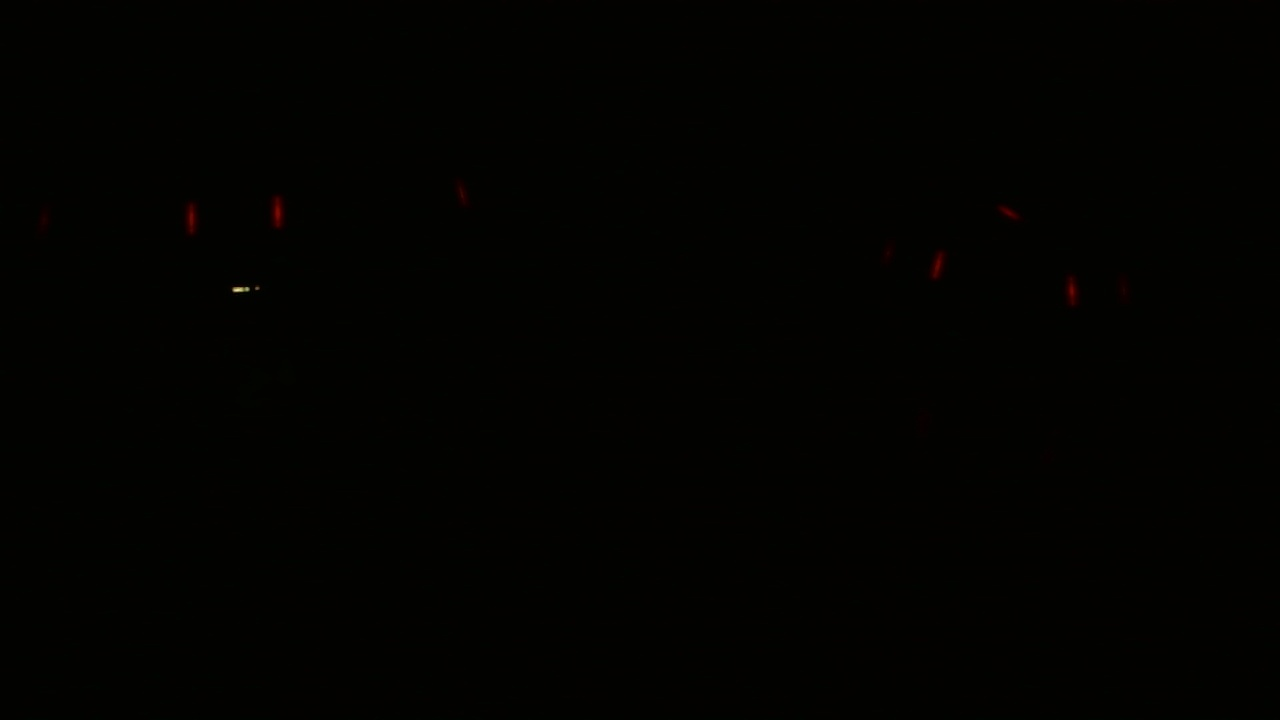pair1: (184, 198, 284, 236)
